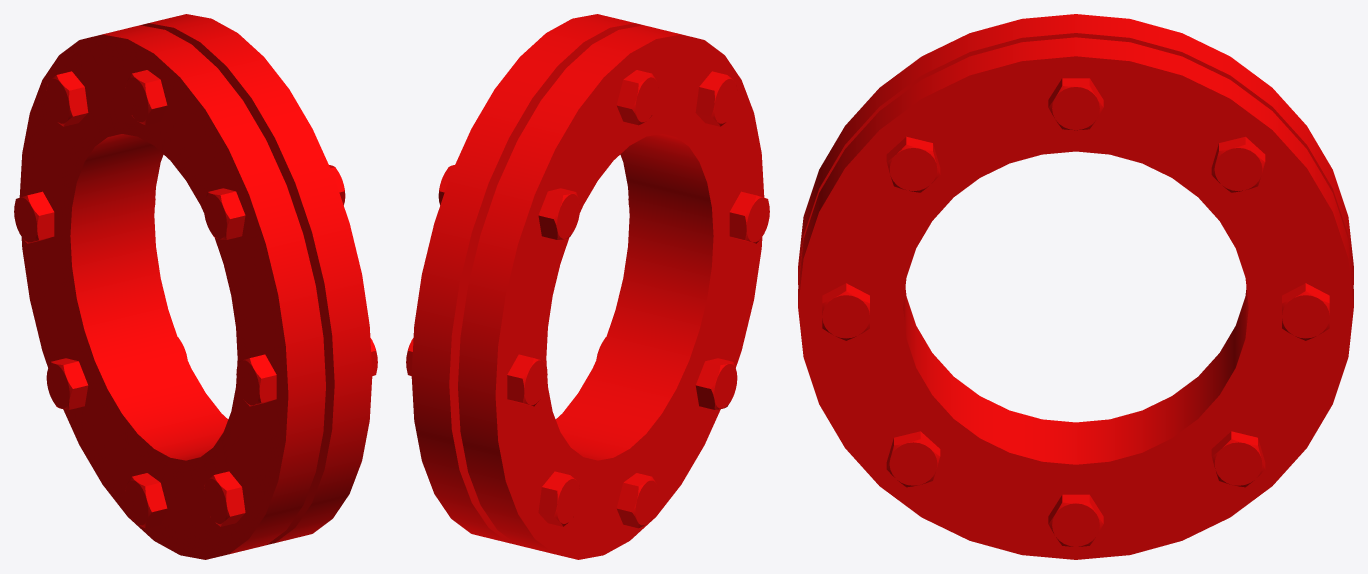
Rendered from Dungeon_Pipe_ConnectionBolt.FBX.
3 views of the same model, side by side, from view 1: azimuth 30°, elevation 25°; view 2: azimuth 150°, elevation 25°; view 3: azimuth 270°, elevation 25° (orthographic). The views are drawn at different scales.
Visible parts, largest first — view 1: ConnectionBolt; view 2: ConnectionBolt; view 3: ConnectionBolt.
Part boxes in pixels (<box>): ConnectionBolt: <box>14,14,377,559</box>; ConnectionBolt: <box>406,14,769,559</box>; ConnectionBolt: <box>798,14,1353,559</box>.
Size of the model in its own units: 6.14 by 24.16 by 24.16.
